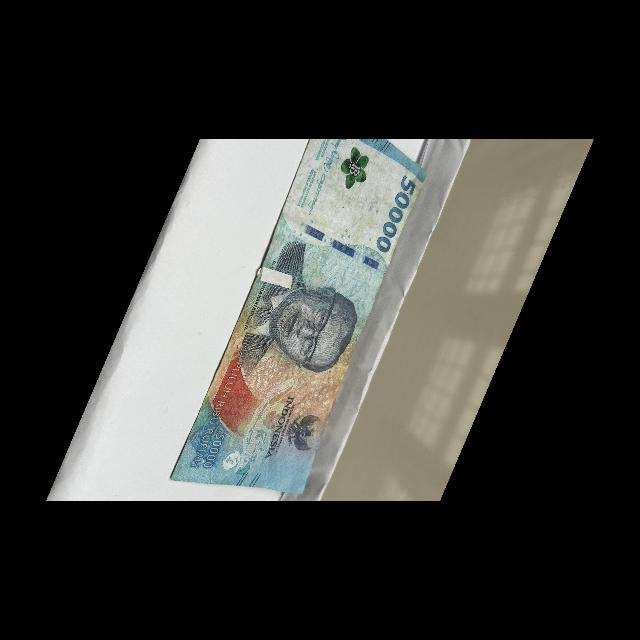Palsu-50k: (164, 120, 432, 531)
Tinta-Palsu-50k: (331, 143, 378, 196)
